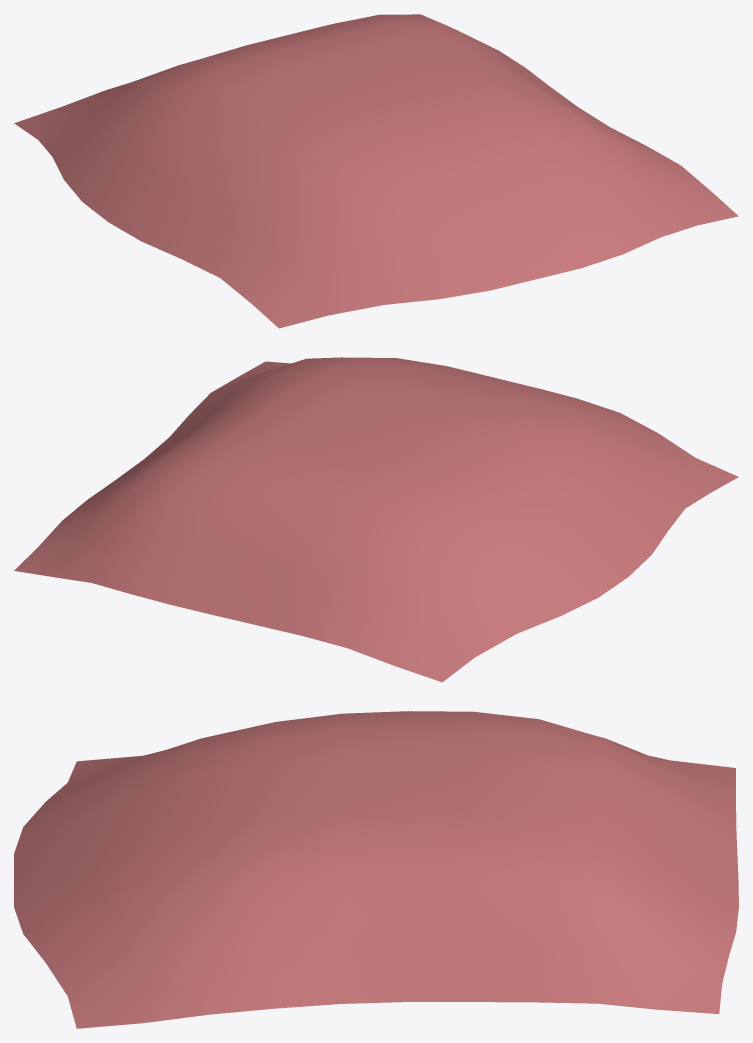
The model's file is SM_Red_Spills.fbx.
3 views of the same model, one above another, from view 1: azimuth 30°, elevation 25°; view 2: azimuth 150°, elevation 25°; view 3: azimuth 270°, elevation 25° (orthographic). The views are drawn at different scales.
Parts seen in each view (by area): view 1: SM_Red_Spills; view 2: SM_Red_Spills; view 3: SM_Red_Spills.
Part boxes in pixels (bbox=[...]): SM_Red_Spills: bbox=[14, 14, 738, 328]; SM_Red_Spills: bbox=[14, 357, 738, 682]; SM_Red_Spills: bbox=[14, 711, 738, 1028].
Bounding box in the file's own units: 42.62 × 7.47 × 45.69.
